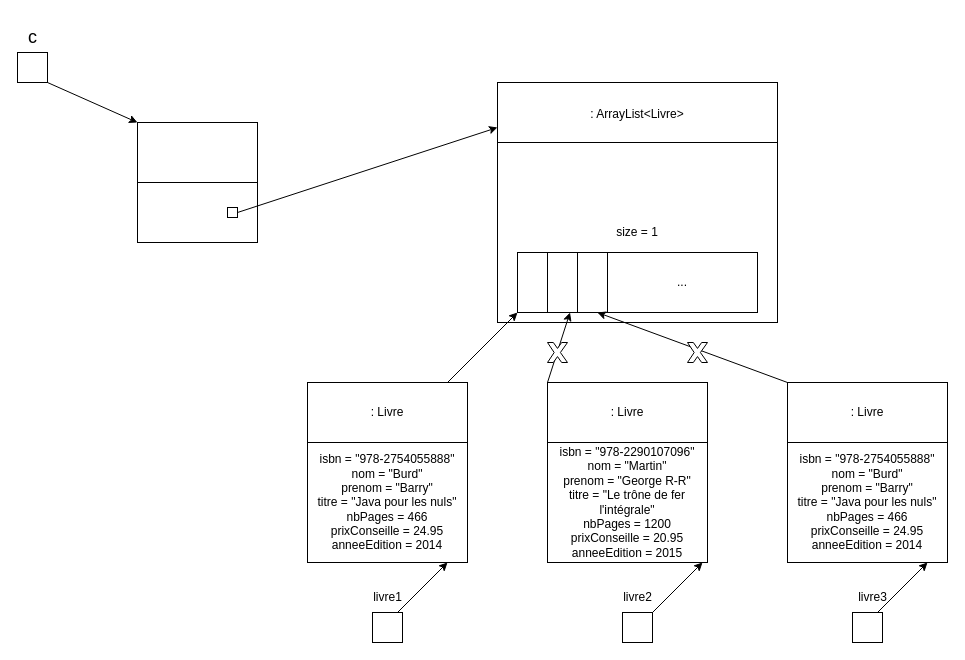
Some shapes in this 965 by 660 pixel diagram are drawn without their labels. The shapes that lost their labels are listed below. From the top down, each one's centre as x and y in pixels, then its label:
point (197, 152): : Catalogue
point (197, 212): llivres =
